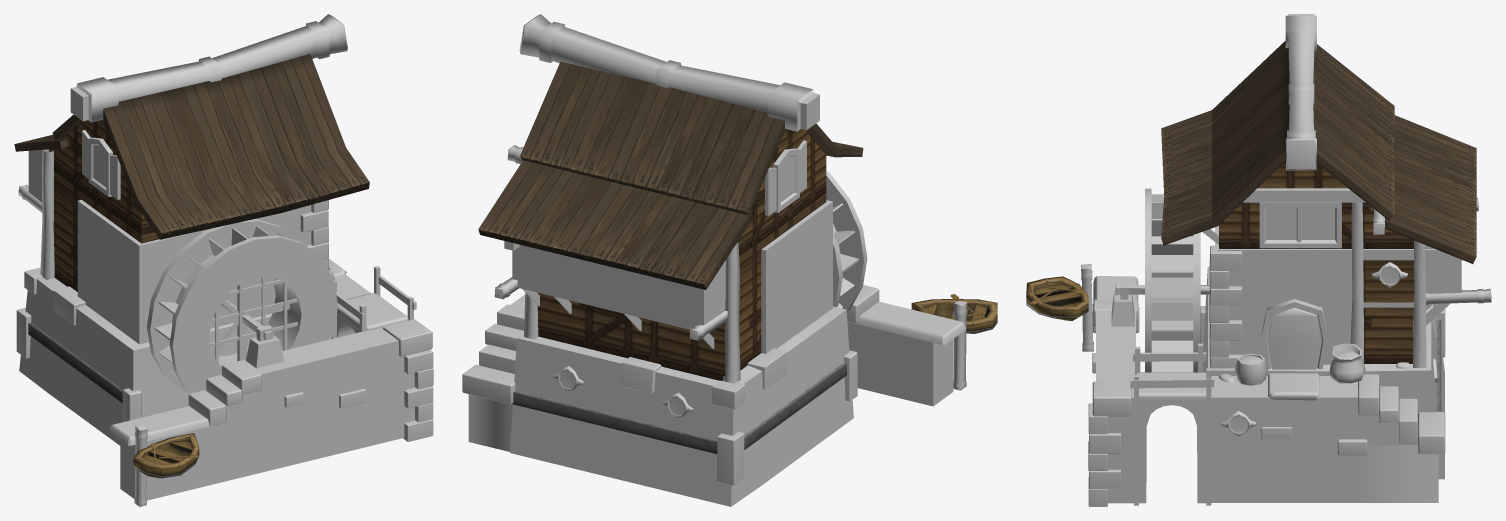
File: Watermill.fbx
The picture shows the model from 3 angles, left to right: view 1: azimuth 30°, elevation 25°; view 2: azimuth 150°, elevation 25°; view 3: azimuth 270°, elevation 25°; orthographic projection. The views are drawn at different scales.
Parts seen in each view (by area): view 1: Watermill_Main, WaterWheel, Boat3, Window_9, Strut13, BaseTrim1, Block9, Block5, Beam5, WaterWheel_Beam, Block6, Block7; view 2: Watermill_Main, WaterWheel, BaseTrim2, Window_9, Strut13, Boat3, BaseTrim1, Block6, Block3, Beam5, Block5, Block4 (+1 smaller); view 3: Watermill_Main, WaterWheel, Window_10, Door7, Pole9, Boat3, Strut14, BorderBeam3, Strut12, Slab6, DoorFrame7, Sack_Wheat_3 (+10 smaller).
Boxes of the visible parts, x1,y1,x2,y2 form: Watermill_Main: (14,14,433,500); WaterWheel: (147,219,337,393); Boat3: (133,433,199,478); Window_9: (82,130,120,199); Strut13: (40,149,54,279); BaseTrim1: (28,323,122,402); Block9: (246,335,283,368); Block5: (53,286,85,325); Beam5: (134,424,147,506); WaterWheel_Beam: (214,295,273,341); Block6: (16,307,31,358); Block7: (122,388,141,421); Watermill_Main: (462,14,965,506); WaterWheel: (826,171,867,311); BaseTrim2: (512,391,717,453); Window_9: (765,140,806,215); Strut13: (723,242,740,383); Boat3: (911,299,997,333); BaseTrim1: (744,362,846,449); Block6: (717,431,744,485); Block3: (620,357,661,393); Beam5: (953,300,967,390); Block5: (747,348,787,389); Block4: (712,380,745,409); Watermill_Main: (1088,14,1476,506); WaterWheel: (1145,188,1200,372); Window_10: (1259,202,1341,248); Door7: (1268,307,1319,369); Pole9: (1218,245,1462,260); Boat3: (1026,276,1088,321); Strut14: (1350,202,1363,362); BorderBeam3: (1243,188,1365,202); Strut12: (1413,240,1426,367); Slab6: (1268,373,1319,400); DoorFrame7: (1261,299,1328,369); Sack_Wheat_3: (1329,343,1365,383).
Size of the model in its own units: 19.87 by 20.47 by 23.36.
